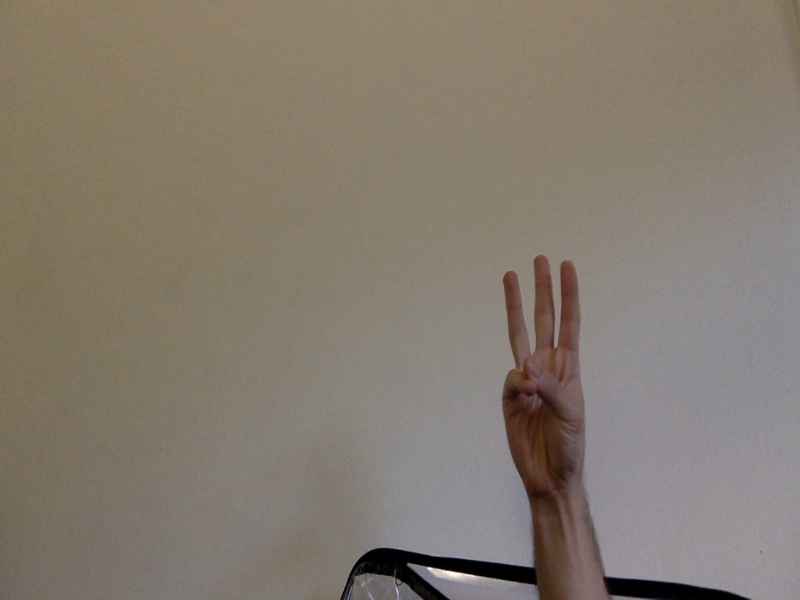3-hand: (503, 257, 589, 487)
